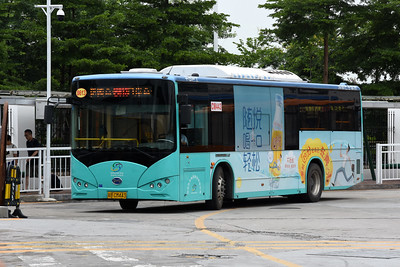bus: (69, 64, 362, 210)
